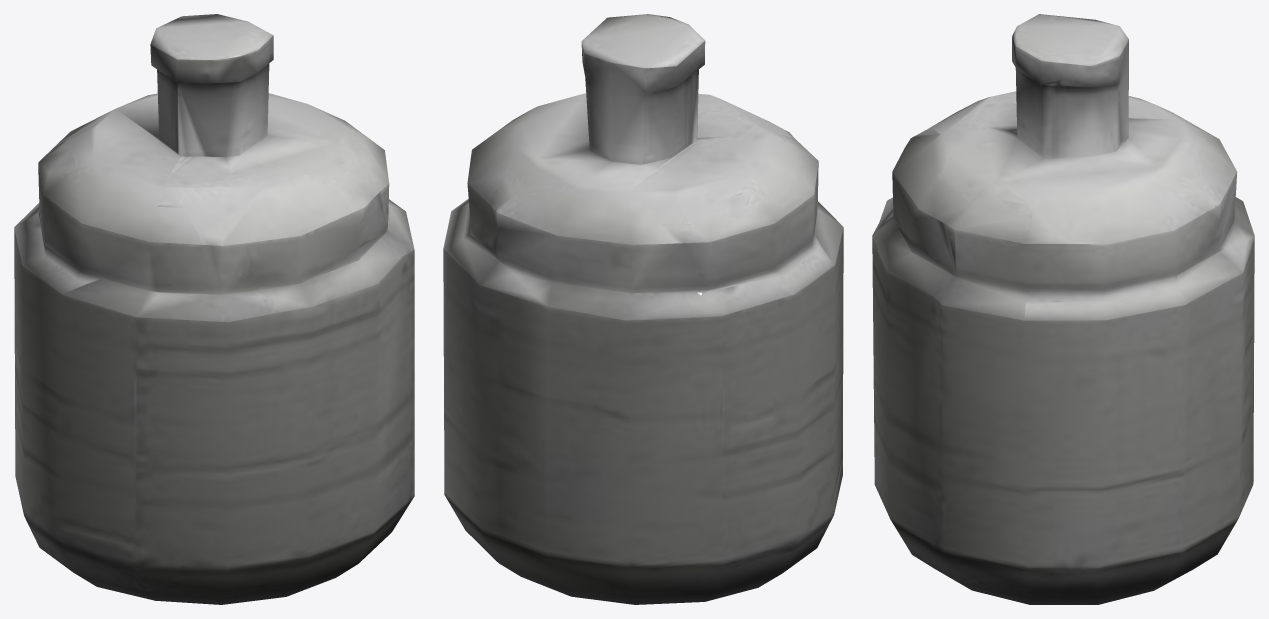
The model's file is fuse.glb.
3 views of the same model, side by side, from view 1: azimuth 30°, elevation 25°; view 2: azimuth 150°, elevation 25°; view 3: azimuth 270°, elevation 25° (orthographic).
Parts seen in each view (by area): view 1: fuse; view 2: fuse; view 3: fuse.
Boxes of the visible parts, <box> form: fuse: <box>14,14,414,604</box>; fuse: <box>443,14,843,604</box>; fuse: <box>872,14,1254,604</box>.
Size of the model in its own units: 0.7005 by 0.9982 by 0.6704.
Materials: 1 (1 with a texture image).
